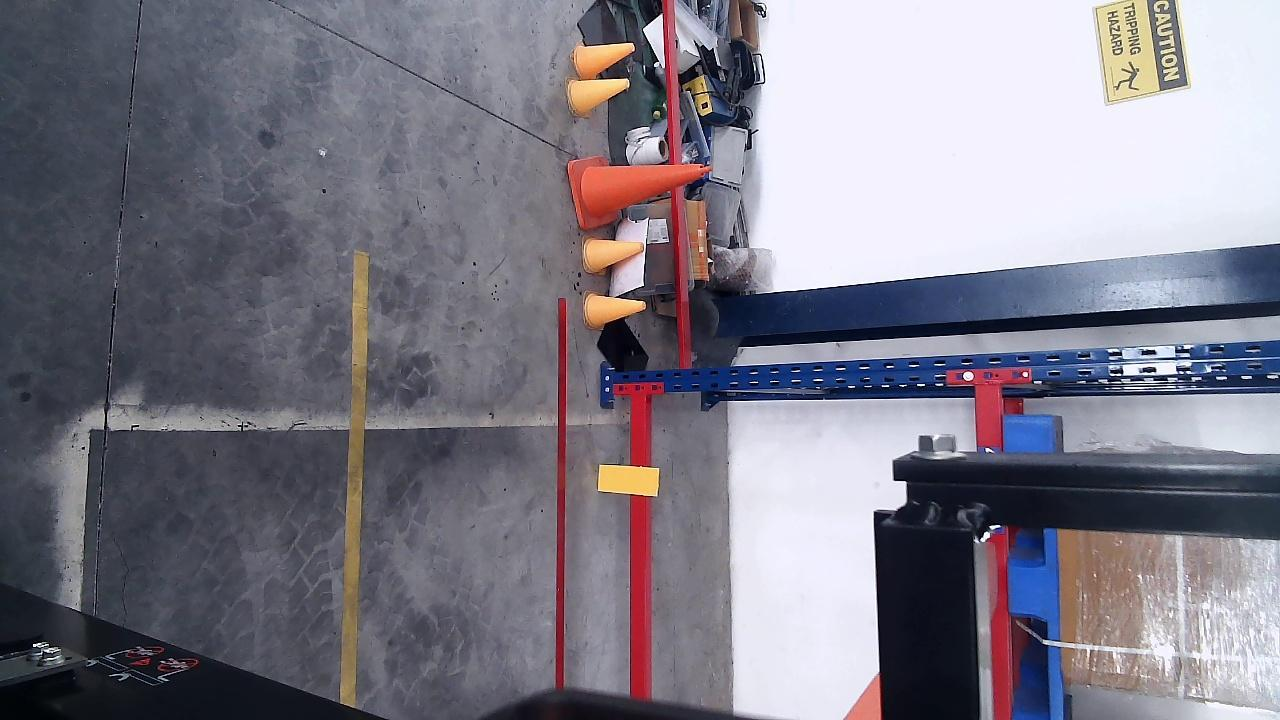h_rack: (626, 394, 649, 695)
orange_strip: (599, 466, 661, 495)
red_line: (556, 297, 568, 684)
yellow_line: (342, 249, 369, 706)
